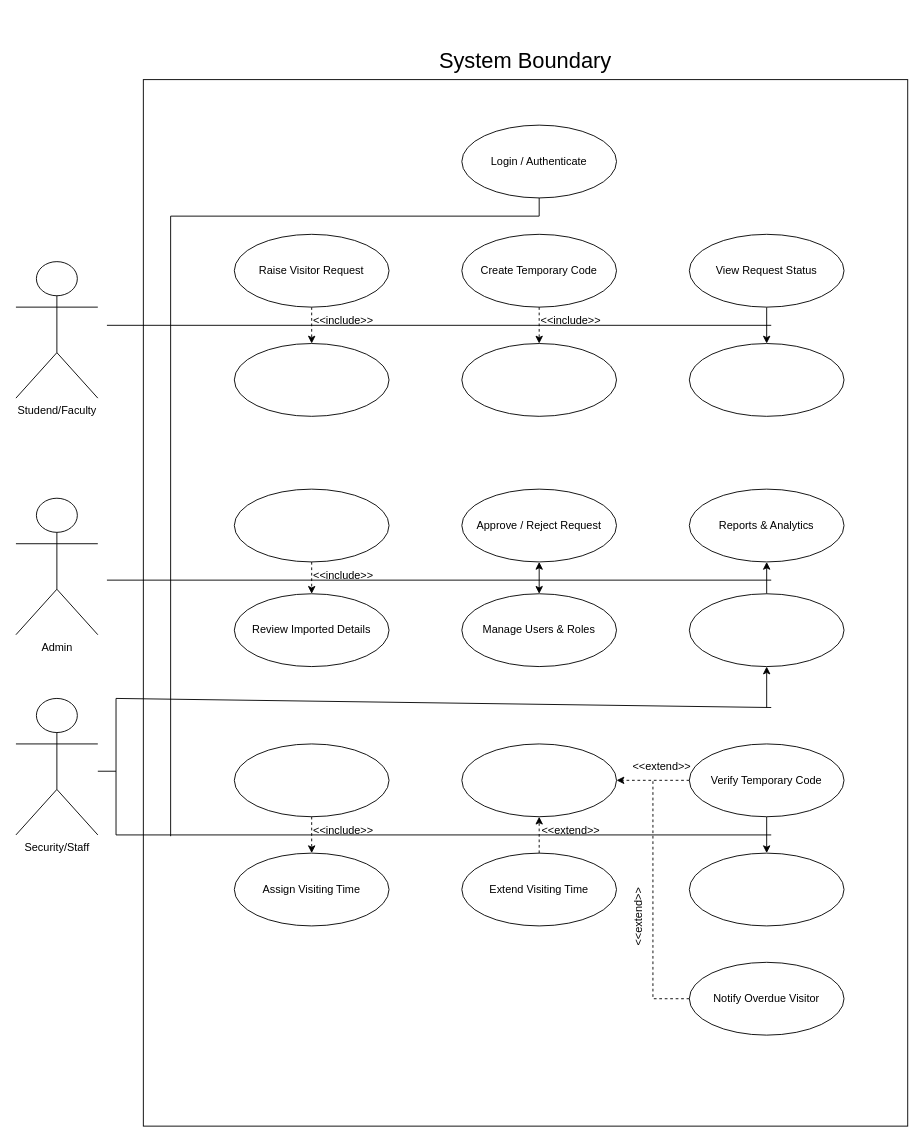
Image size: 924x1142. Some labels were removed from this diagram. Each missing label, with the centre of its shape:
Import Group Visitors: (311,525)
Record Entry: (539,780)
Record Exit: (766,889)
Register Direct Visitor: (311,780)
Search Visitor Records: (766,630)
Select Host / Dept.: (311,379)
Set Validity Period: (539,379)
View Visitor History: (766,379)
